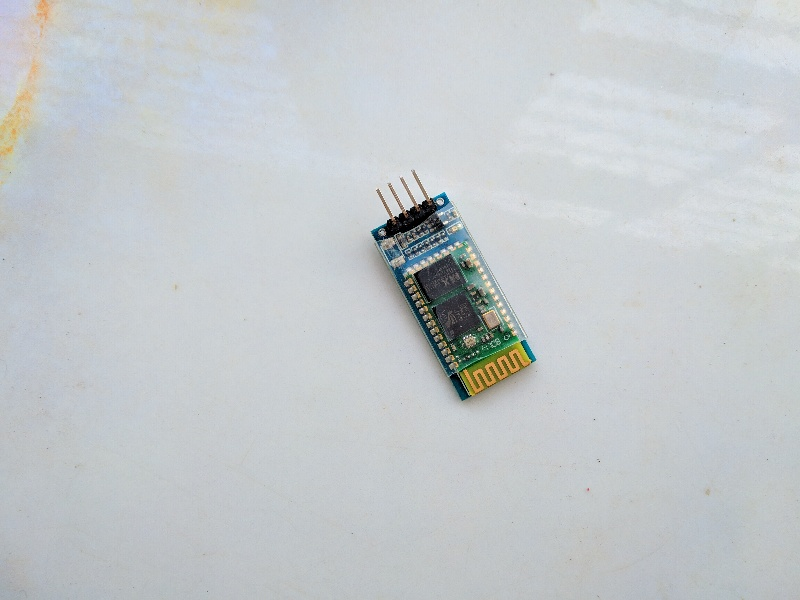HC-05: (364, 187, 546, 409)
